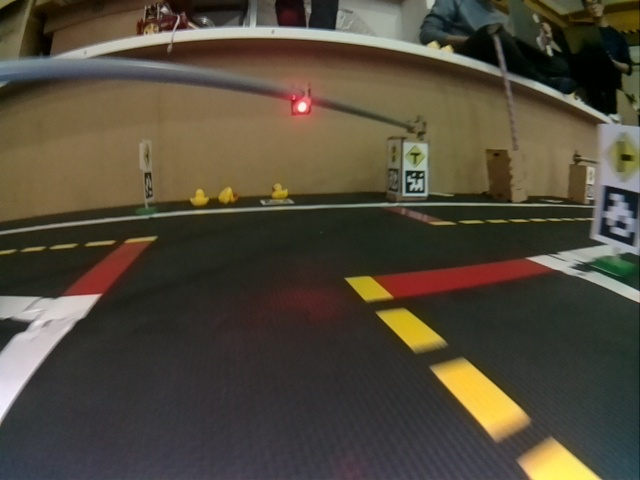Duckie: (218, 188, 237, 202), (190, 189, 206, 205), (271, 184, 286, 198)
Intersection sign: (605, 133, 639, 184), (405, 144, 426, 165), (143, 145, 151, 168)
QR code: (600, 186, 639, 246), (406, 171, 425, 194), (144, 174, 154, 197), (388, 172, 398, 193)
Signal sign: (388, 145, 399, 165)
Traffic light: (291, 93, 314, 116)
